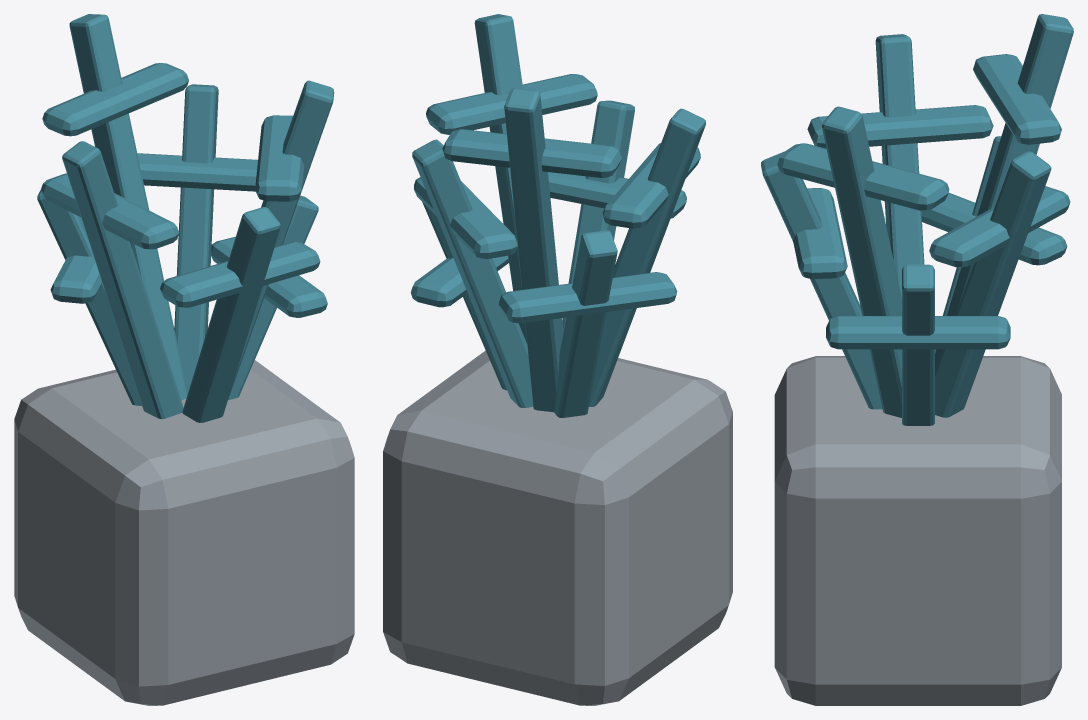
The model's file is 2_Detail.fbx.
3 views of the same model, side by side, from view 1: azimuth 30°, elevation 25°; view 2: azimuth 150°, elevation 25°; view 3: azimuth 270°, elevation 25° (orthographic). The views are drawn at different scales.
Parts seen in each view (by area): view 1: Body; view 2: Body; view 3: Body.
Part boxes in pixels (box(x1,y1,x2,y2)): Body: box(14, 14, 354, 705); Body: box(383, 14, 732, 705); Body: box(761, 14, 1073, 705).
Bounding box in the file's own units: 0.764 × 1.69 × 0.7625.
